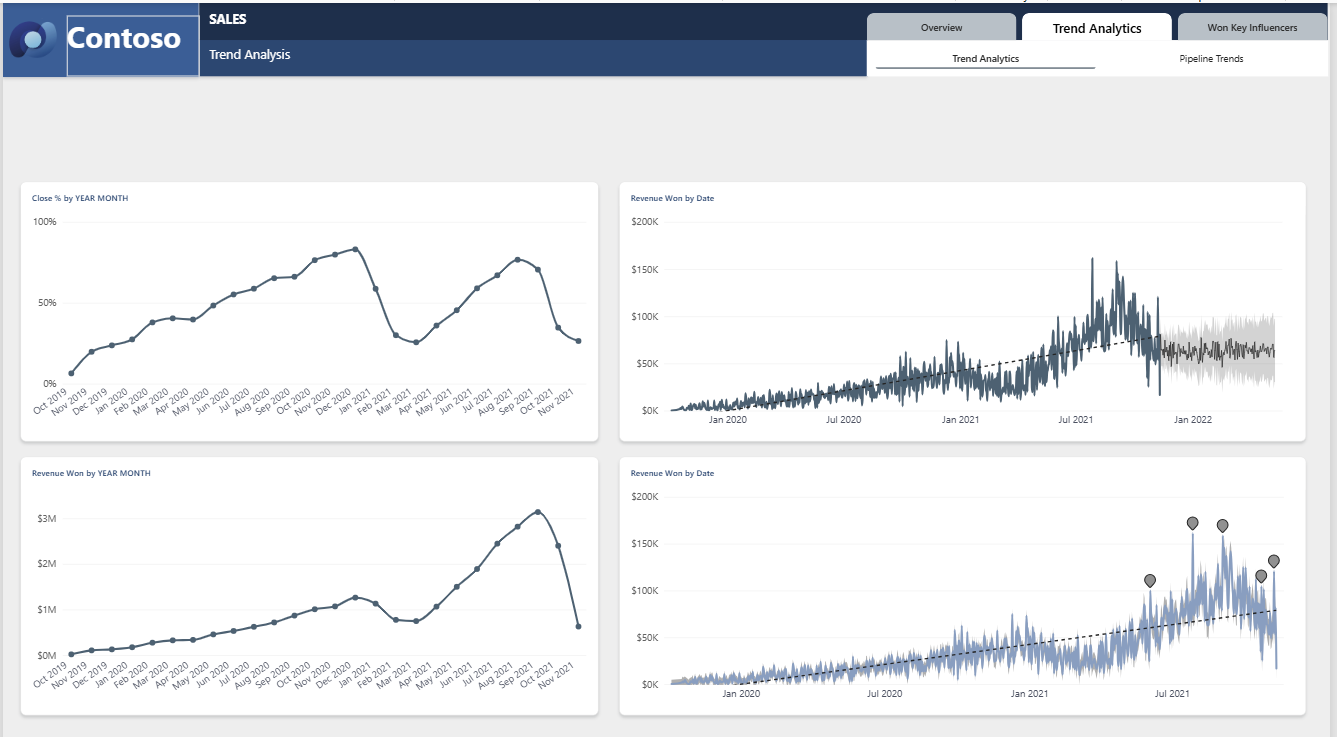

The dashboard page shown, as its layout file describes it:
{"tool":"powerbi","page":{"name":"Trend Analytics","canvas":[1920,1080],"ordinal":3},"visuals":[{"type":"shape","title":"Horizontal Shape","box":[283.4,53.1,967.2,54],"z":0,"group":"g1"},{"type":"group","id":"g1","title":"Header","box":[0,0,1918,107.6],"z":500},{"type":"lineChart","fields":{"Y":["Opportunities.Revenue Won"],"Category":["Opportunity Calendar.Date"]},"box":[893,259.5,994.6,376.2],"z":1000},{"type":"shape","title":"Horizontal Shape","box":[283.4,0.3,1633.9,53.8],"z":2000,"group":"g1"},{"type":"lineChart","fields":{"Y":["Opportunities.Close %"],"Category":["Opportunity Calendar.YEAR MONTH"]},"box":[25.9,259.5,836.8,376.2],"z":2000},{"type":"pageNavigator","box":[1250,15,667.5,40],"z":2500,"group":"g1"},{"type":"shape","title":"Horizontal Shape","box":[1249.9,54,668,52.1],"z":2750,"group":"g1"},{"type":"shape","title":"Horizontal Shape","box":[0,0,283.5,107.6],"z":3000,"group":"g1"},{"type":"lineChart","fields":{"Y":["Opportunities.Revenue Won"],"Category":["Opportunity Calendar.Date"]},"box":[893,657.3,994.6,374.1],"z":3000},{"type":"pageNavigator","box":[1262.5,63.8,646.2,32.5],"z":3250,"group":"g1"},{"type":"textbox","title":"Report Title Category","box":[299,11.5,438.7,37.2],"z":4000,"group":"g1"},{"type":"lineChart","fields":{"Y":["Opportunities.Revenue Won"],"Category":["Opportunity Calendar.YEAR MONTH"]},"box":[25.9,657.3,836.8,374.1],"z":4000},{"type":"textbox","title":"Report Title","box":[298.6,61.4,438.7,36.5],"z":4125,"group":"g1"},{"type":"textbox","title":"Company name","box":[93,17.3,190.3,88.6],"z":4250,"group":"g1"},{"type":"image","title":"Company Logo","box":[8.6,17.1,68.6,73.6],"z":4500,"group":"g1"},{"type":"cardVisual","title":"Revenue won","fields":{"Data":["Opportunities.Count of Won","Opportunities.Close %","Avg(Opportunities.Discount)","Opportunities.Revenue Won"]},"box":[25,138,1861,92],"z":5000}]}

Visuals, with their boxes on the page's 1920x1080 design canvas (x1, y1, x2, y2). These are canvas units, not pixel positions in the 1337x737 screenshot, which may show the page scaled, cropped or inside an application window:
"Horizontal Shape" shape: [283, 53, 1251, 107]
"Header" group: [0, 0, 1918, 108]
lineChart - Opportunities.Revenue Won x Opportunity Calendar.Date: [893, 260, 1888, 636]
"Horizontal Shape" shape: [283, 0, 1917, 54]
lineChart - Opportunities.Close % x Opportunity Calendar.YEAR MONTH: [26, 260, 863, 636]
pageNavigator: [1250, 15, 1918, 55]
"Horizontal Shape" shape: [1250, 54, 1918, 106]
"Horizontal Shape" shape: [0, 0, 284, 108]
lineChart - Opportunities.Revenue Won x Opportunity Calendar.Date: [893, 657, 1888, 1031]
pageNavigator: [1262, 64, 1909, 96]
"Report Title Category" textbox: [299, 12, 738, 49]
lineChart - Opportunities.Revenue Won x Opportunity Calendar.YEAR MONTH: [26, 657, 863, 1031]
"Report Title" textbox: [299, 61, 737, 98]
"Company name" textbox: [93, 17, 283, 106]
"Company Logo" image: [9, 17, 77, 91]
"Revenue won" cardVisual: [25, 138, 1886, 230]
